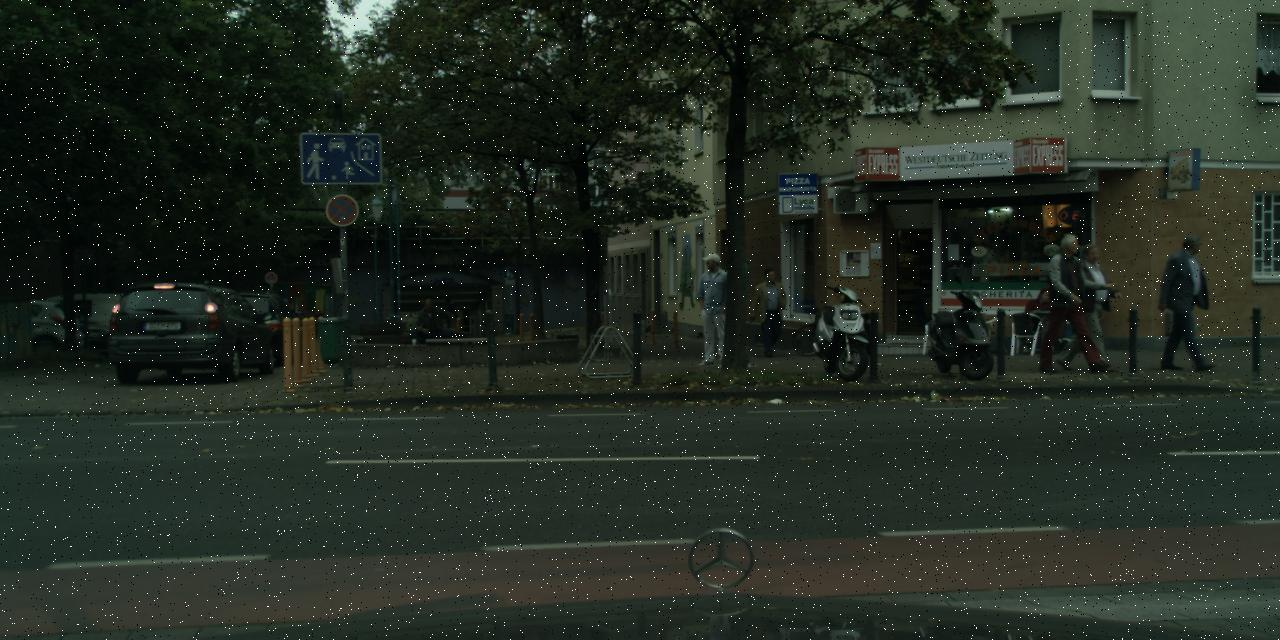ped: (1042, 234, 1100, 374), (1164, 234, 1220, 370), (1061, 243, 1113, 372), (710, 246, 759, 366), (692, 252, 738, 366), (752, 268, 788, 358)
